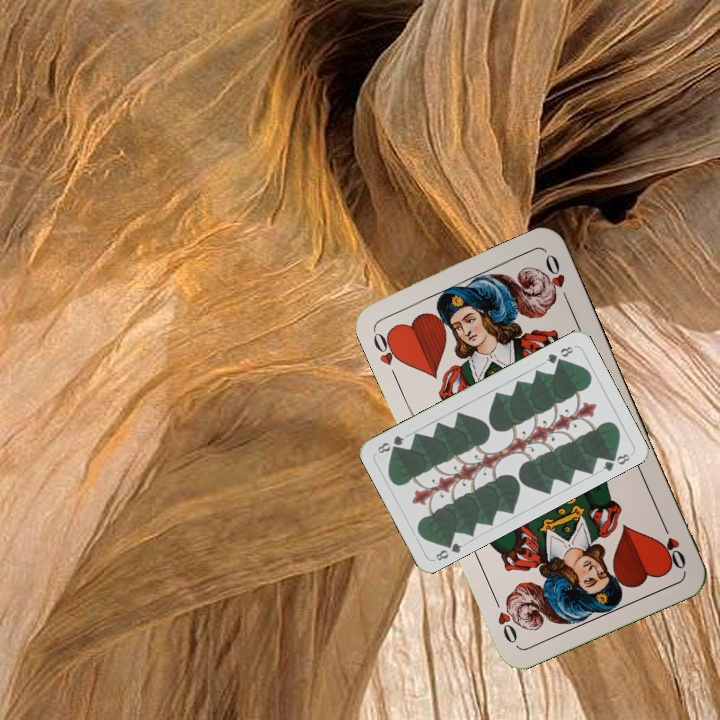G8: (430, 535, 465, 564), (542, 342, 576, 366)
HO: (656, 516, 689, 572), (368, 325, 406, 369)
